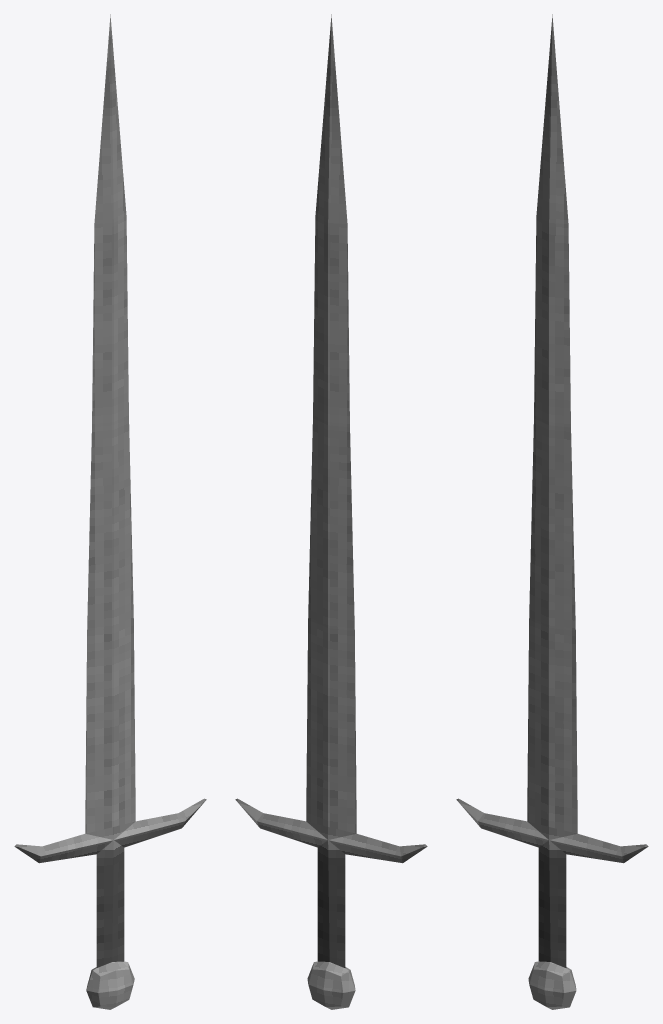
Rendered from ArmingSword.glb.
3 renders of one model, left to right at view 1: azimuth 30°, elevation 25°; view 2: azimuth 150°, elevation 25°; view 3: azimuth 330°, elevation 25°, orthographic.
Visible parts, largest first — view 1: armingSword; view 2: armingSword; view 3: armingSword.
Boxes of the visible parts, x1,y1,x2,y2 form: armingSword: (14, 14, 206, 1009); armingSword: (235, 14, 427, 1009); armingSword: (456, 14, 648, 1009).
Bounding box in the file's own units: 0.184 × 0.9097 × 0.0255.
Materials: 1 (1 with a texture image).
